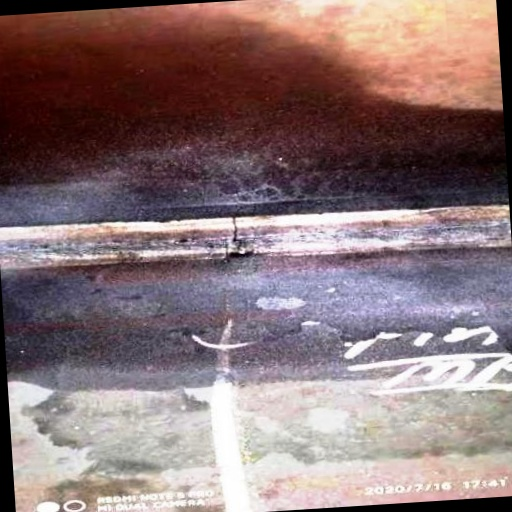crack: (227, 214, 245, 246)
